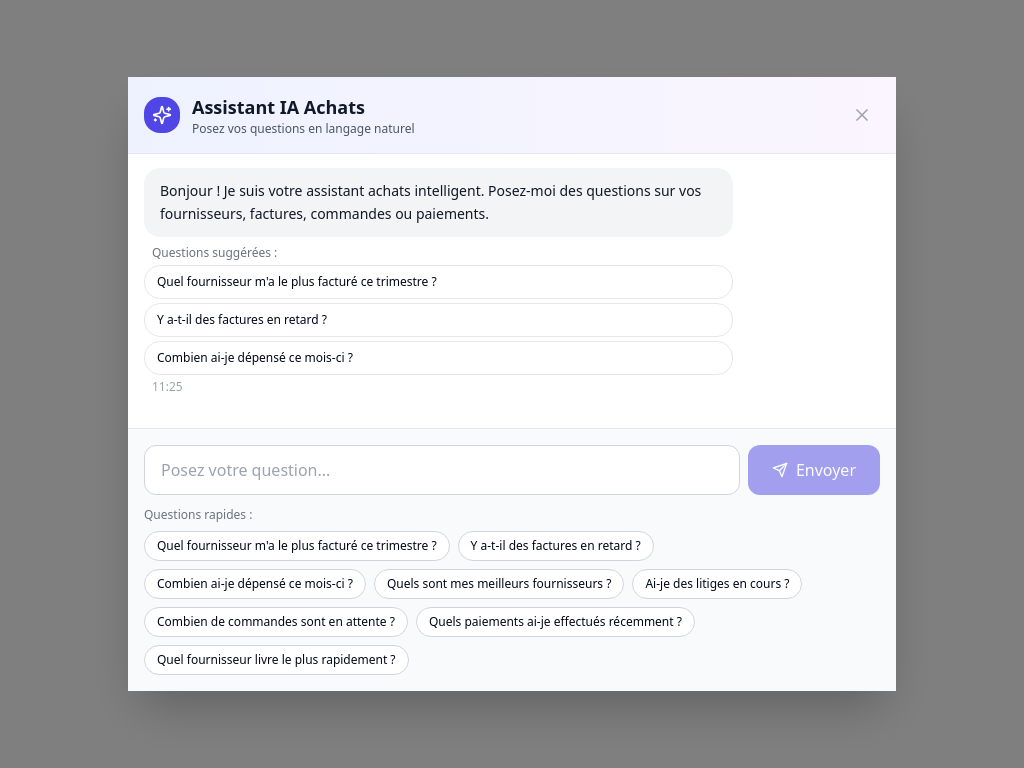
PurchaseAIAssistant › should send question when send button is clicked
The width and height of the screenshot is (1024, 768).
Type "Test question" into the field with placeholder "Posez votre question...".
click(442, 470); type("Test question")  # box [144,445,740,495]
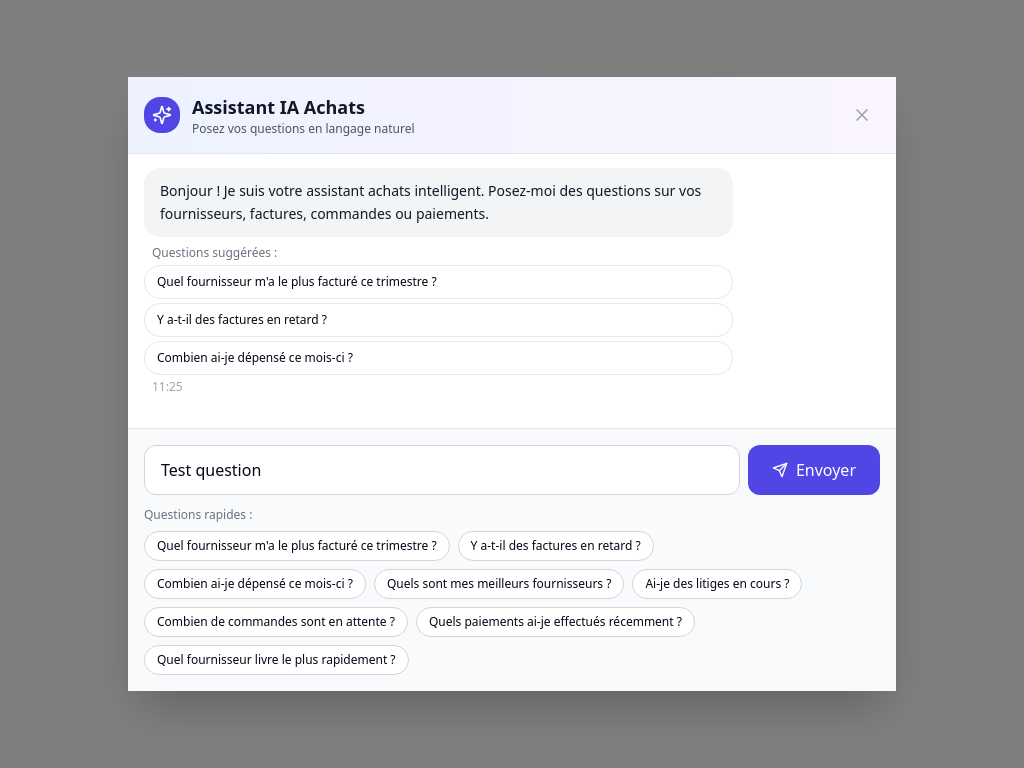
Click the button "Envoyer".
click(814, 470)  # box [748,445,880,495]
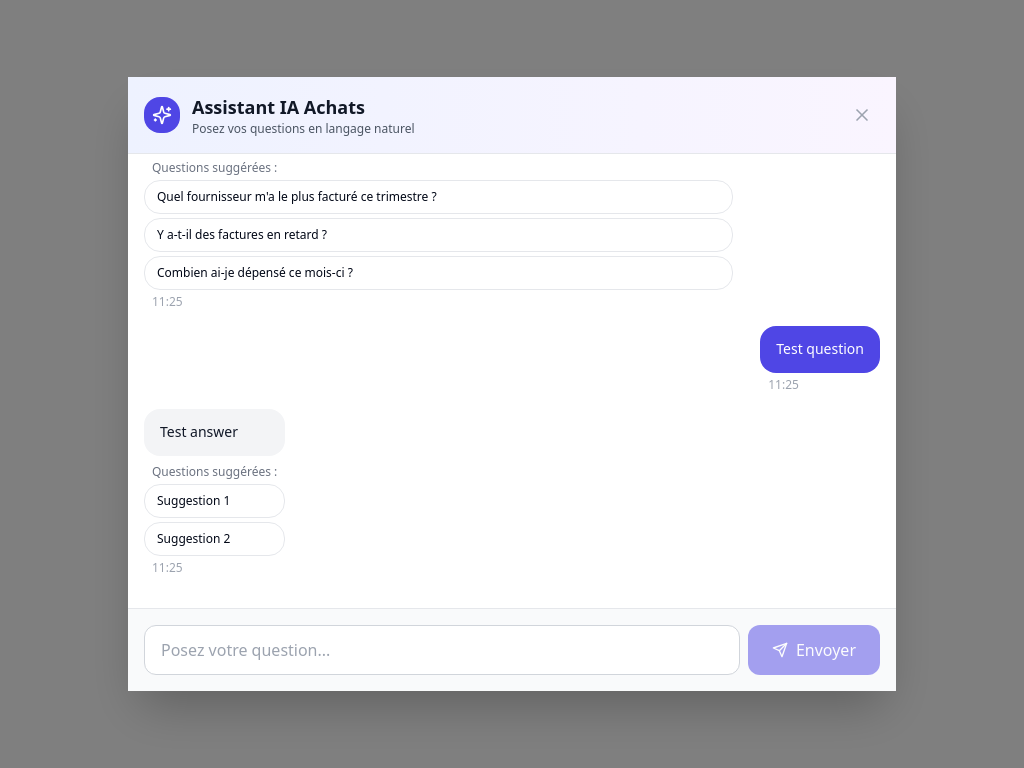
Now the text "Test answer" is shown, box [160,422,238,441]
